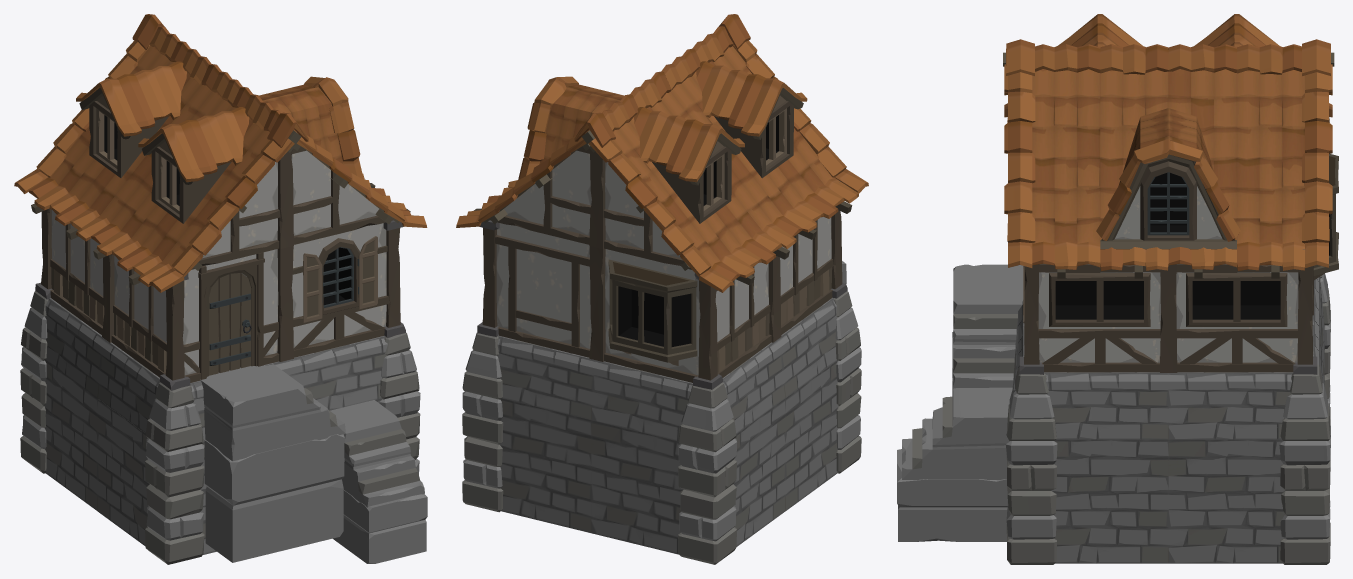
Rendered from kingdom_SM_Bld_Preset_House_02_A_Optimized.gltf.
3 renders of one model, left to right at view 1: azimuth 30°, elevation 25°; view 2: azimuth 150°, elevation 25°; view 3: azimuth 270°, elevation 25°, orthographic. The views are drawn at different scales.
Visible parts, largest first — view 1: SM_Bld_Preset_House_02_A_Optimized; view 2: SM_Bld_Preset_House_02_A_Optimized; view 3: SM_Bld_Preset_House_02_A_Optimized.
Boxes of the visible parts, x1,y1,x2,y2 form: SM_Bld_Preset_House_02_A_Optimized: (14,14,427,564); SM_Bld_Preset_House_02_A_Optimized: (456,14,868,564); SM_Bld_Preset_House_02_A_Optimized: (897,14,1338,564).
Size of the model in its own units: 6.45 by 9.24 by 8.07.
1 material, 1 textured.
